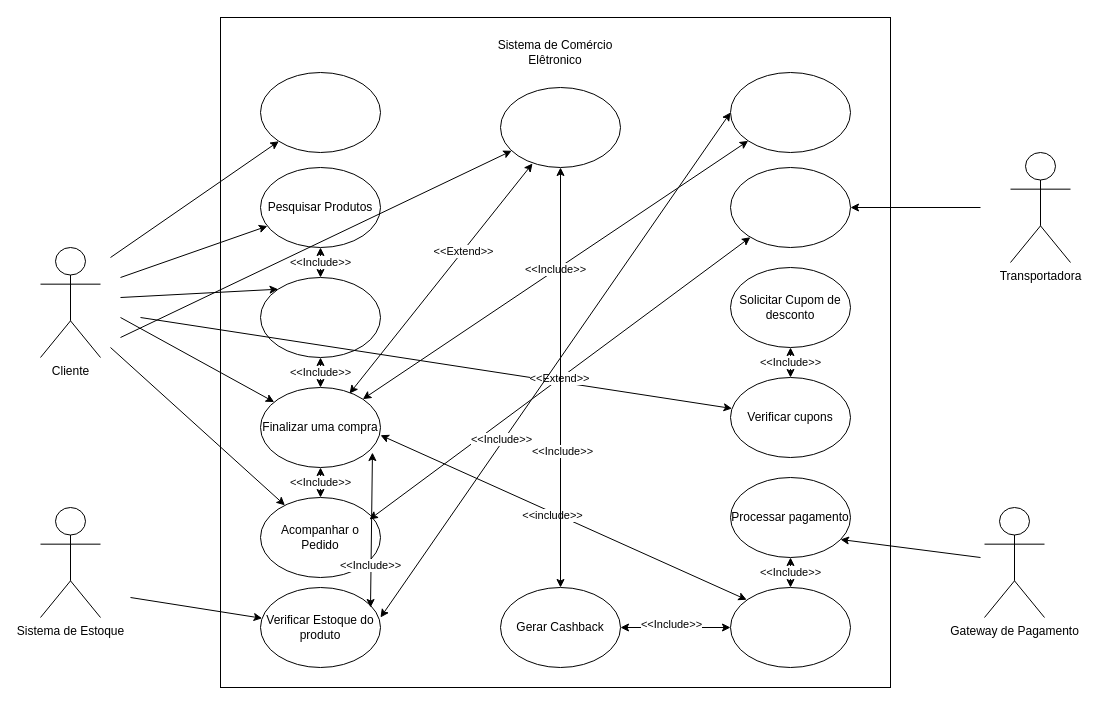
Image size: 1099x705. Some labels were removed from this diagram. Here are the shapes that lost their labels. From the top down, the box of each, then its label:
(260, 72, 380, 152): Criar Conta
(500, 86, 620, 168): Utilizar Cashback
(730, 72, 850, 152): Calcular Valor da entrega
(730, 166, 850, 248): Receber dados de entrega
(260, 276, 380, 358): Adicionar itens ao carrinho
(730, 586, 850, 668): Pagar compra
